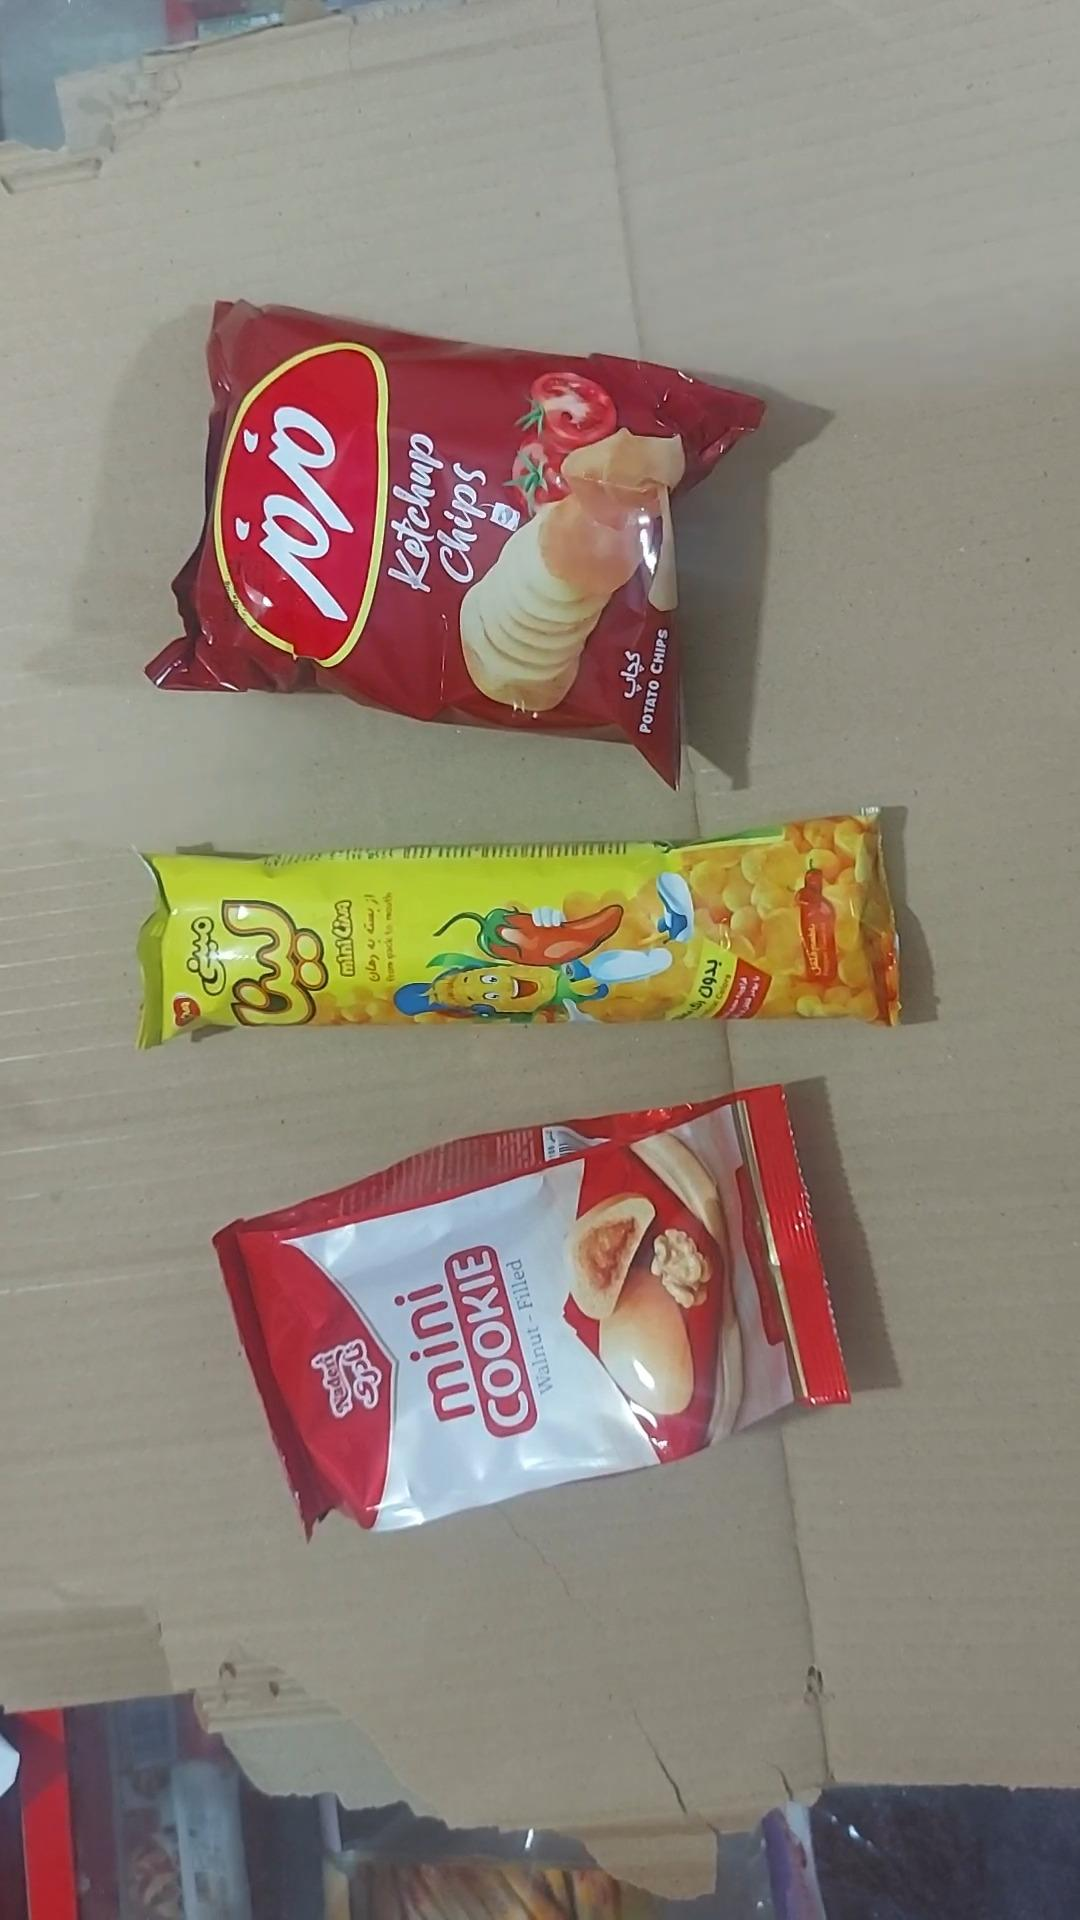Maz Maz ketchup chips: (146, 303, 762, 786)
Mini Lina: (137, 811, 899, 1047)
Naderi mini cookie: (214, 1085, 848, 1534)
